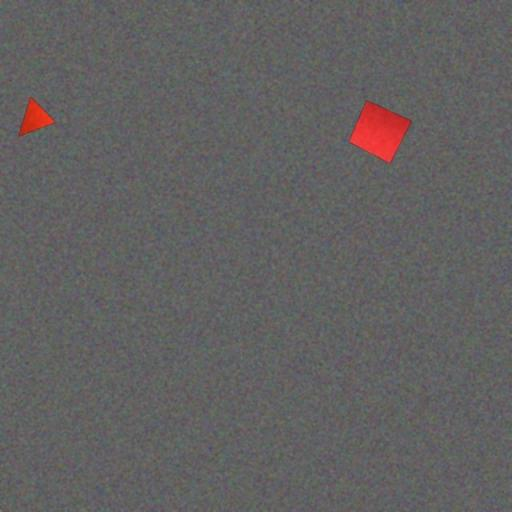RED_SQUARE: (348, 99, 413, 164)
